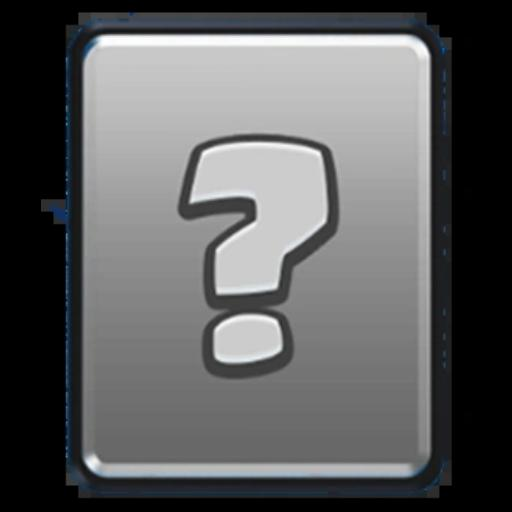mystery-card: (80, 34, 434, 480)
